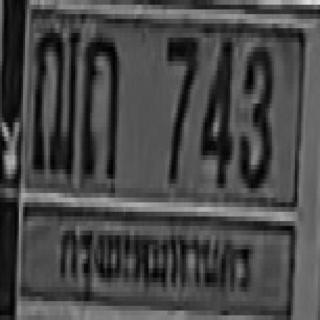A12: (31, 21, 78, 172)
A22: (79, 28, 117, 174)
N03: (238, 42, 272, 184)
N04: (199, 31, 232, 181)
N07: (165, 33, 197, 179)
P04: (55, 214, 255, 306)
